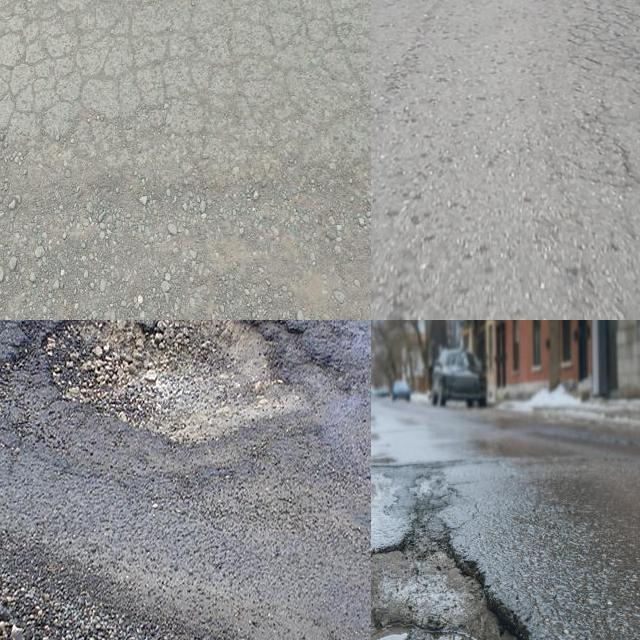Lubang: (9, 320, 354, 464), (371, 525, 528, 640)
Retak Buaya: (0, 0, 371, 177)
